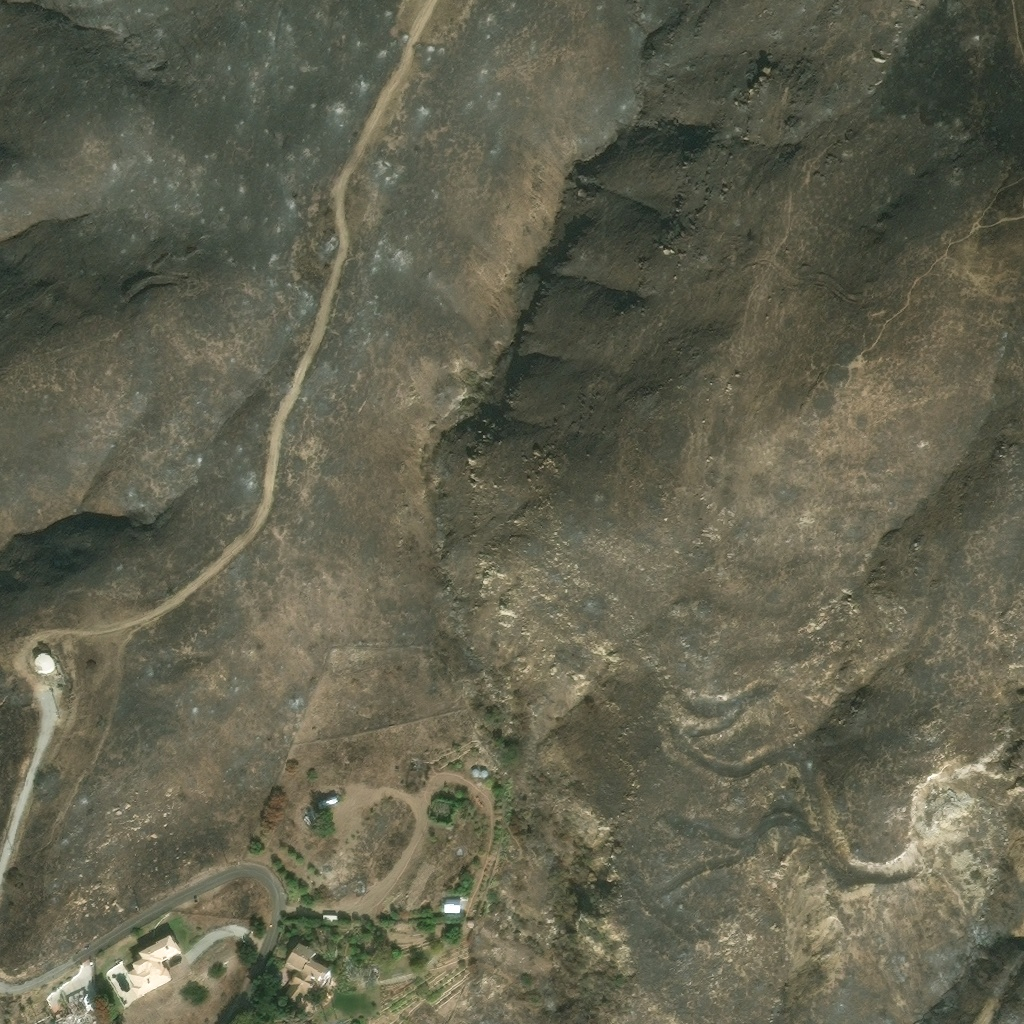0 no-damage: (104, 932, 181, 1010), (275, 941, 331, 1006), (31, 653, 53, 674), (316, 794, 339, 810), (442, 899, 460, 916), (321, 914, 338, 922), (372, 968, 381, 980), (471, 769, 479, 778), (479, 770, 487, 779)
3 destroyed: (46, 988, 93, 1023), (407, 759, 420, 774)
